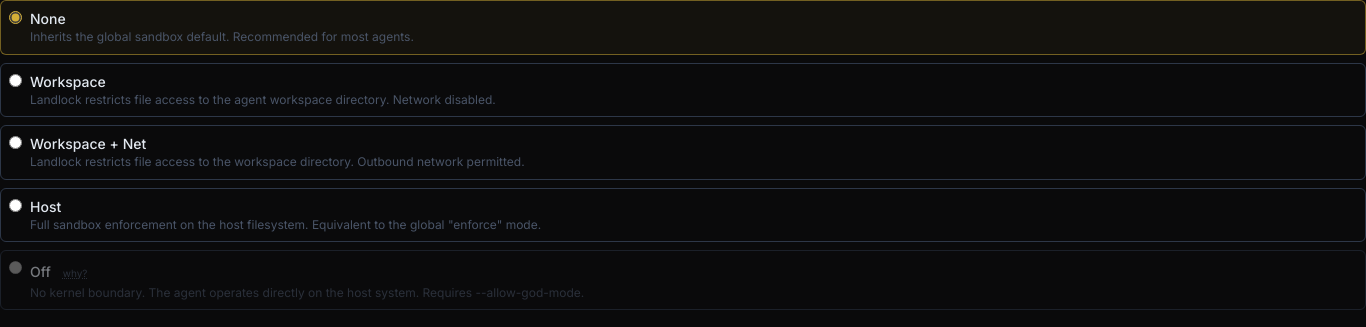
Test: SandboxProfileSelector › tooltip text present when godModeOptedIn=false
The image size is (1366, 327).
Step 1. Hover over the button with aria-label "Why is this disabled" → {"x": 75, "y": 273}, box [63,265,88,281]
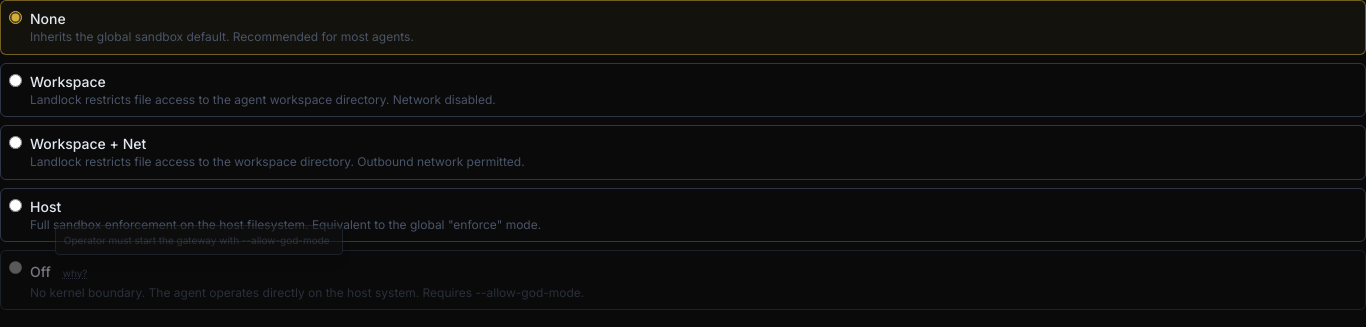
Expected: the tooltip shows "allow-god-mode", [64,234,330,246]
